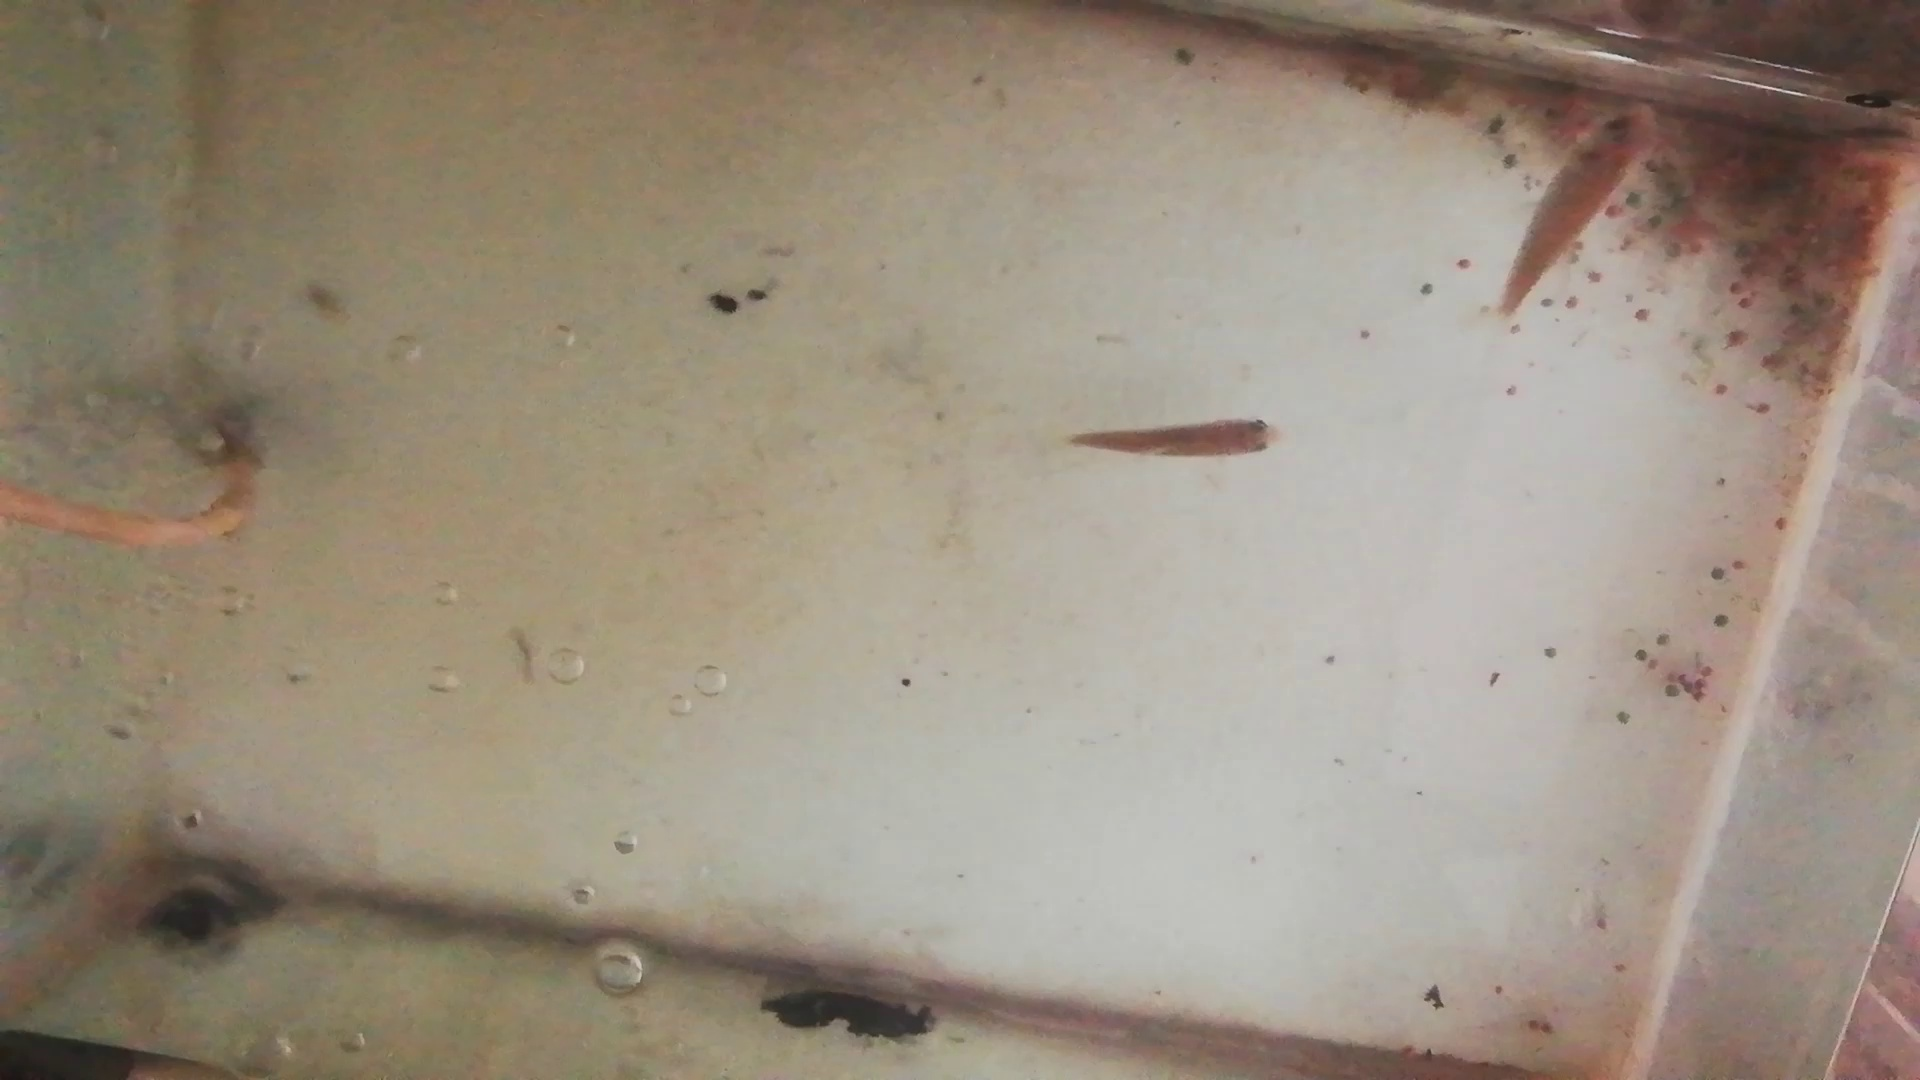fish: (1503, 104, 1660, 315), (1069, 417, 1284, 465)
